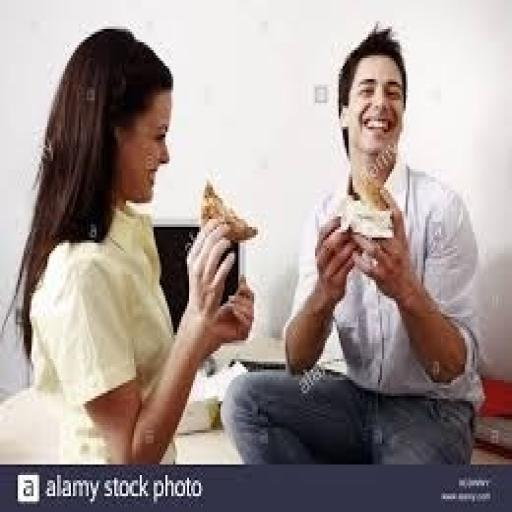eating: (218, 24, 486, 464), (0, 24, 256, 464)
